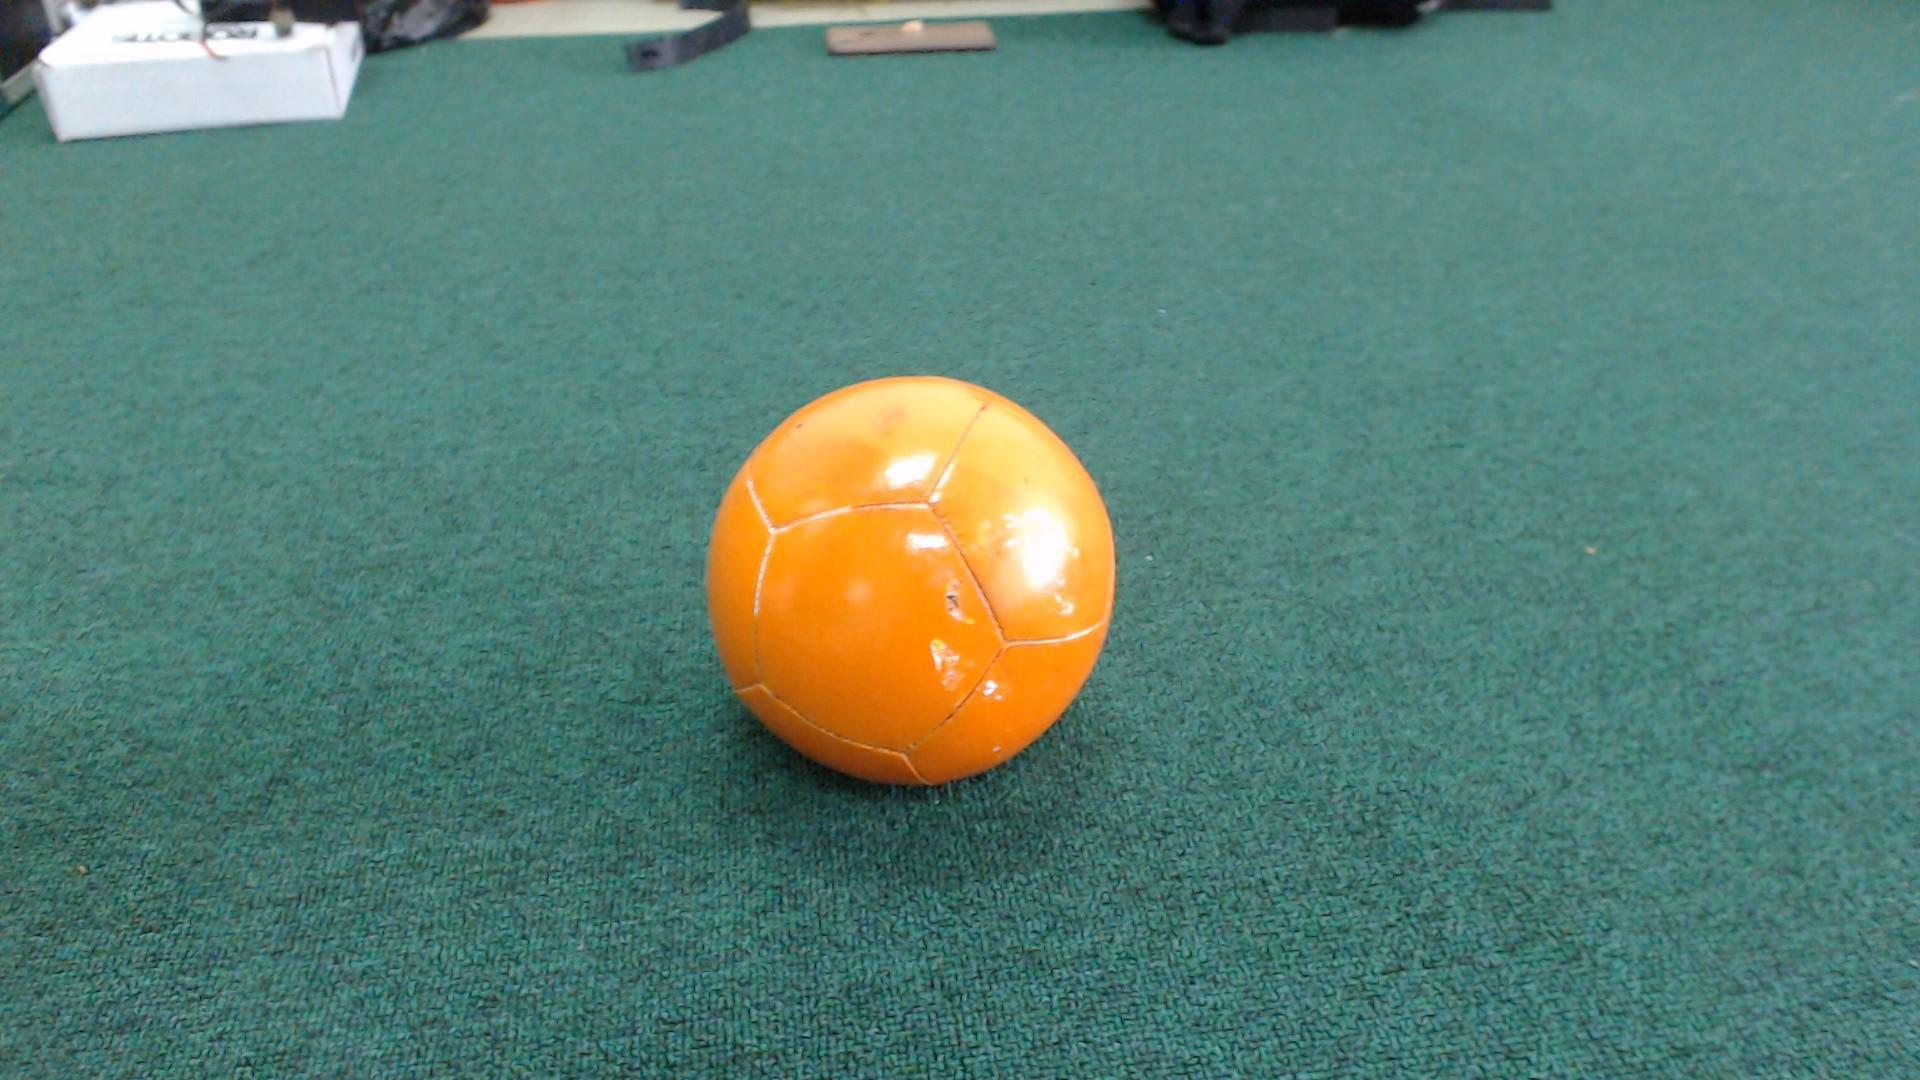bola: (626, 349, 1156, 835)
